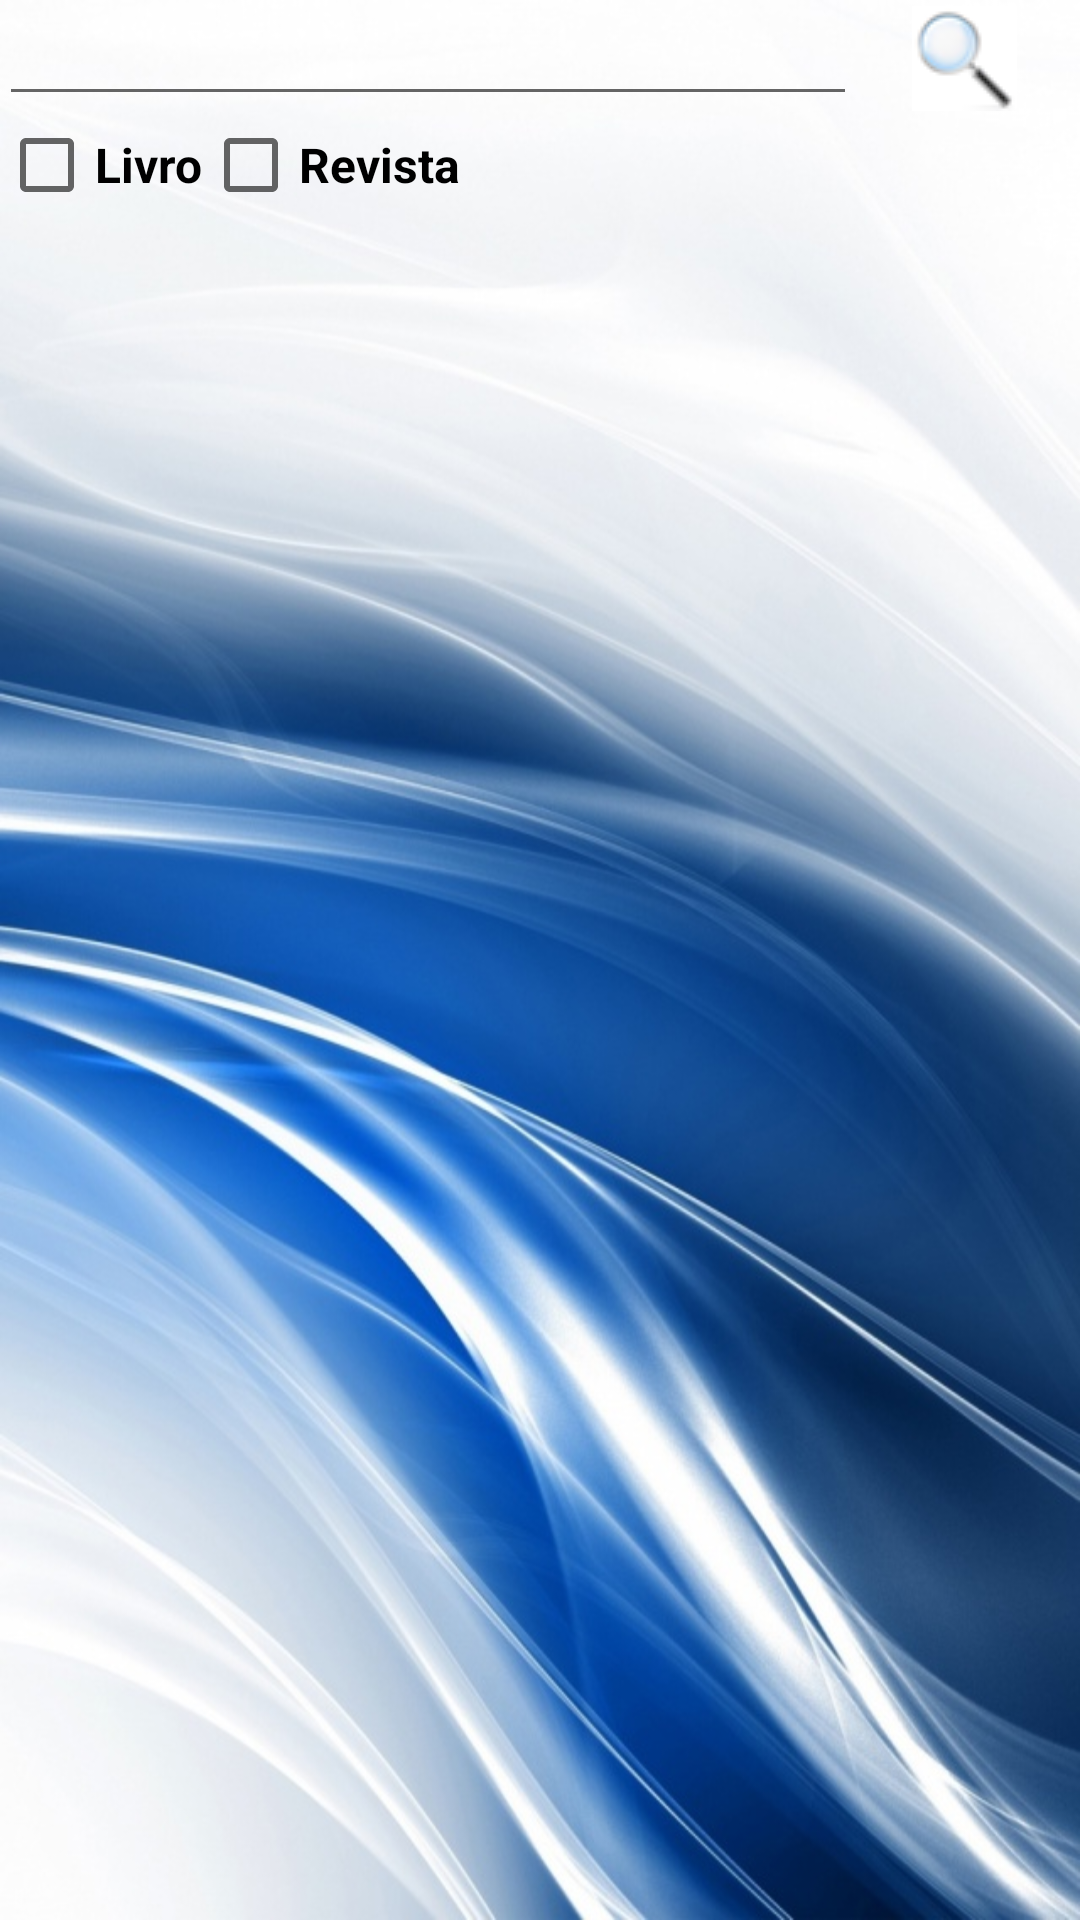

Named icons in this screenshot (1080px×1920px) and their bounding boxes, bbox=(x1, y1, x2, y2):
lupa: bbox=(918, 12, 1012, 108)
